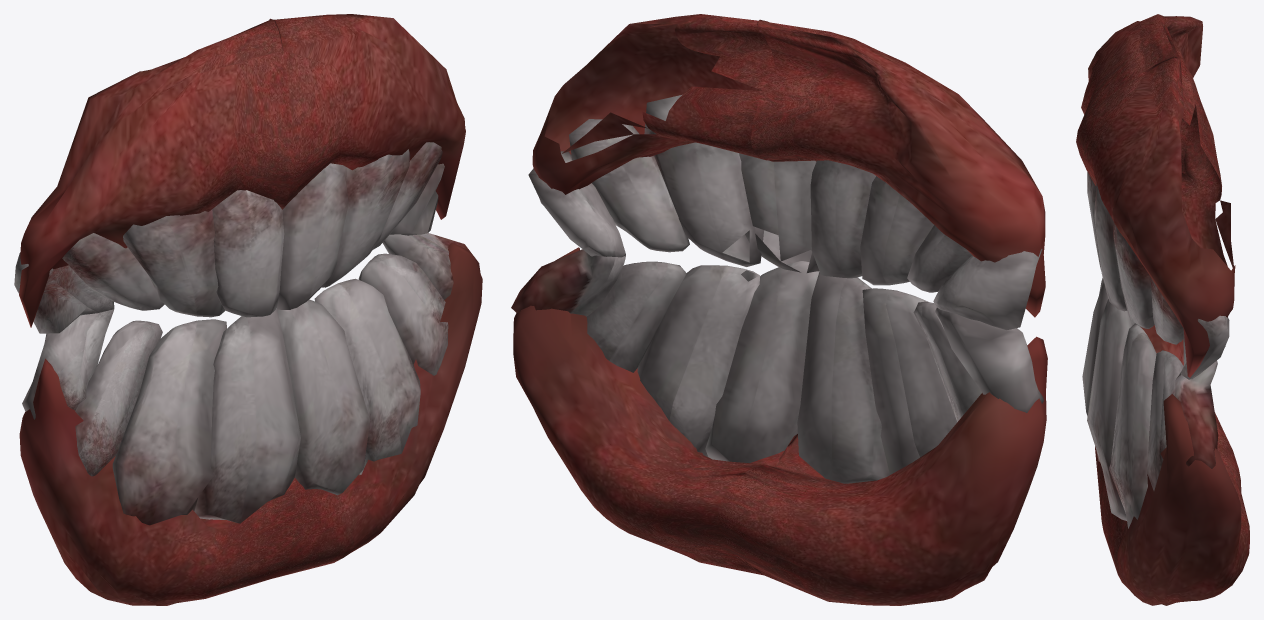
File: Teeth_Good.glb
3 views of the same model, side by side, from view 1: azimuth 30°, elevation 25°; view 2: azimuth 150°, elevation 25°; view 3: azimuth 270°, elevation 25° (orthographic). The views are drawn at different scales.
Visible parts, largest first — view 1: Lower, Upper; view 2: Lower, Upper; view 3: Upper, Lower.
Boxes of the visible parts, <box> form: Lower: <box>19,233,482,605</box>; Upper: <box>14,14,465,333</box>; Lower: <box>511,247,1047,605</box>; Upper: <box>528,14,1045,330</box>; Upper: <box>1076,14,1235,379</box>; Lower: <box>1082,278,1249,605</box>.
Size of the model in its own units: 0.395 by 0.4241 by 0.1276.
Materials: 1 (1 with a texture image).
